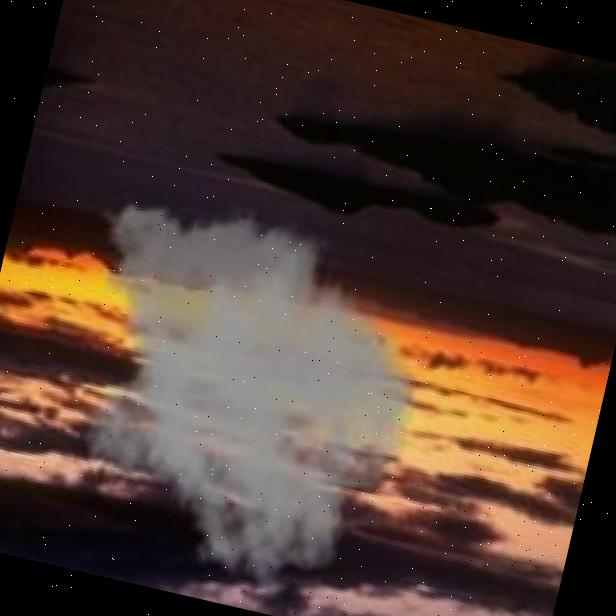smoke: (21, 171, 455, 616)
